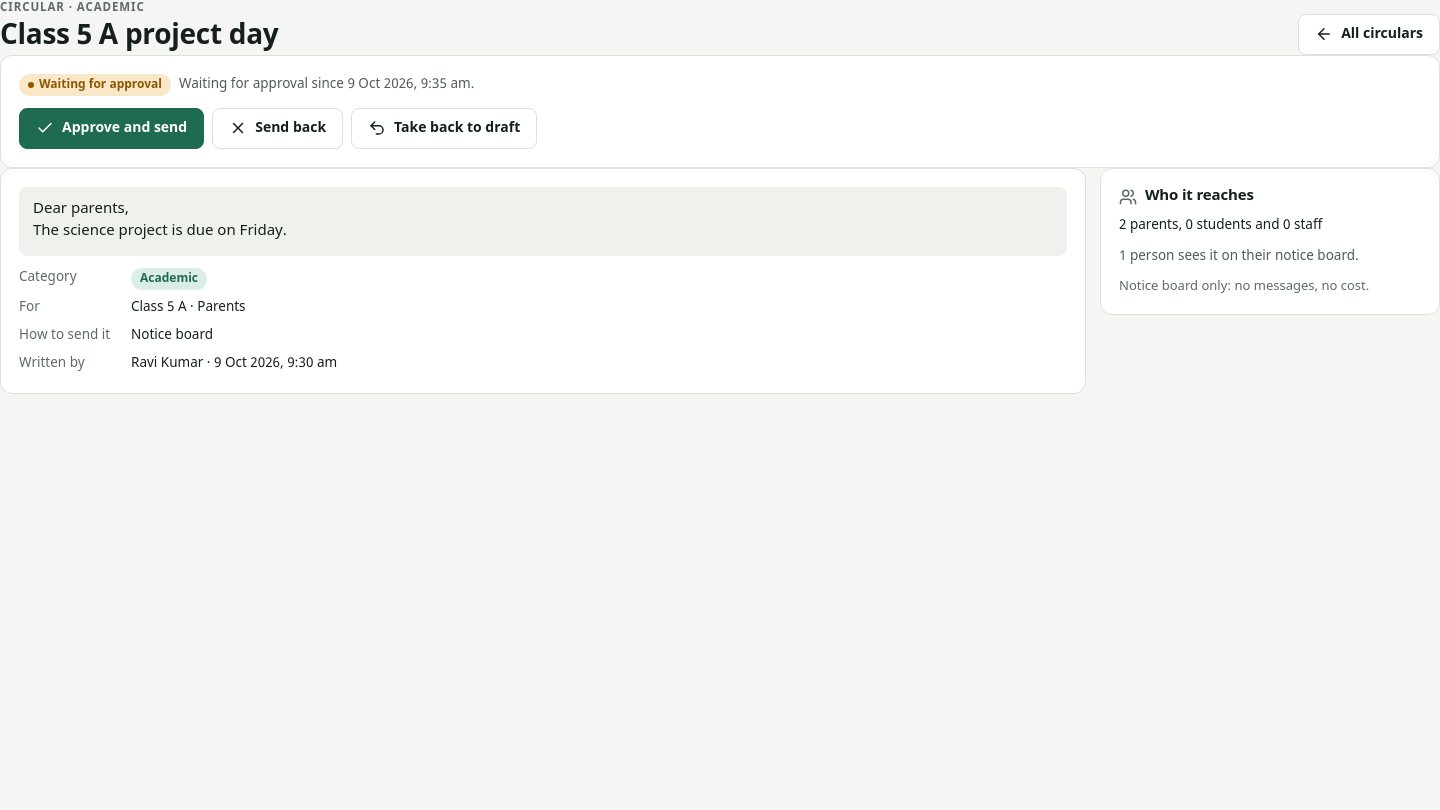
Test: NoticeDetailView › lets a principal approve a circular waiting for approval, which sends it
Expected: the element with test id "notice-status" shows "Waiting for approval", [39, 77, 162, 93]
Expected: the text with test id "notice-audience" reads "Class 5 A · Parents", [131, 299, 246, 317]
Click the button "Approve and send".
click(112, 128)  # box [19, 108, 204, 149]
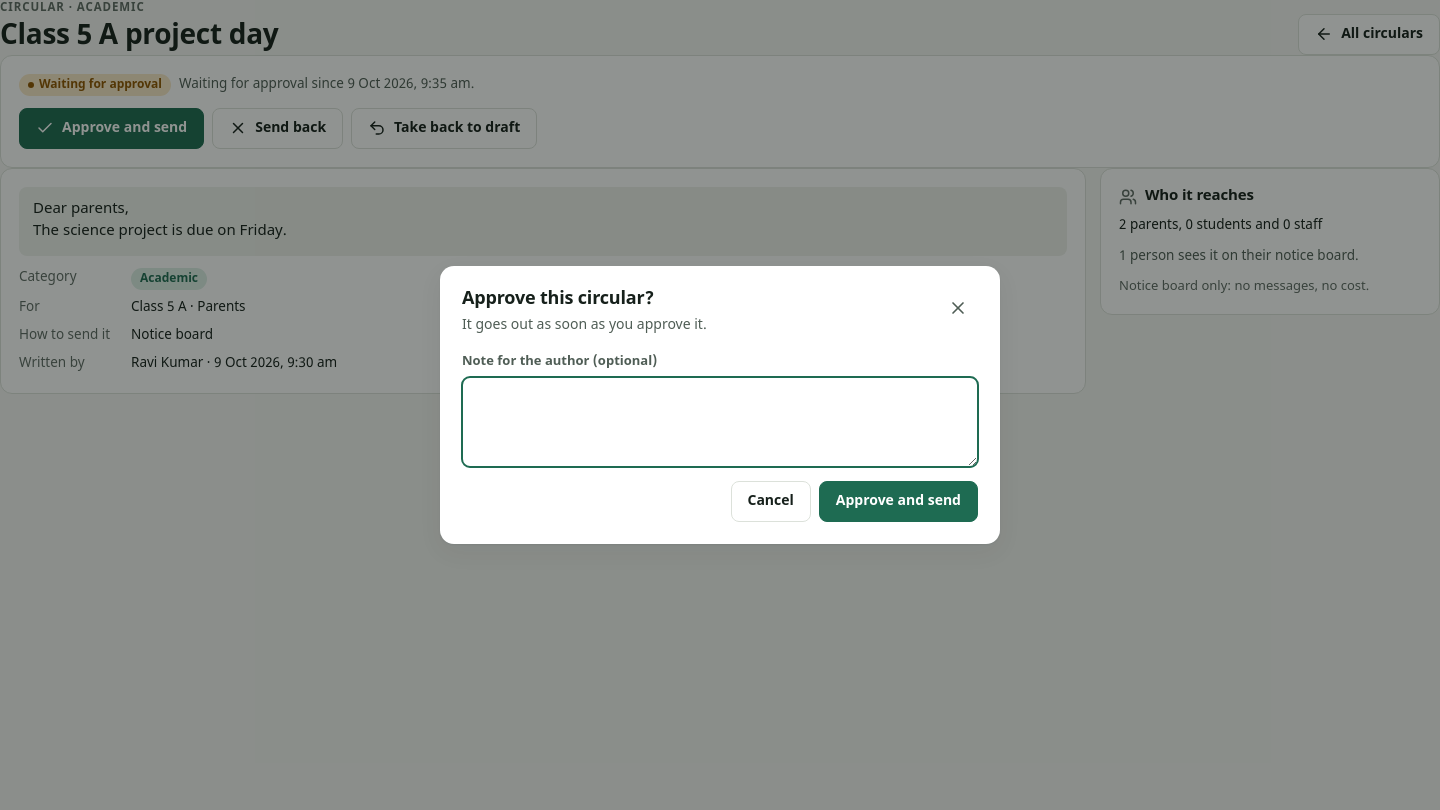
Click the button "Approve and send".
click(898, 501)  # box [819, 481, 978, 522]
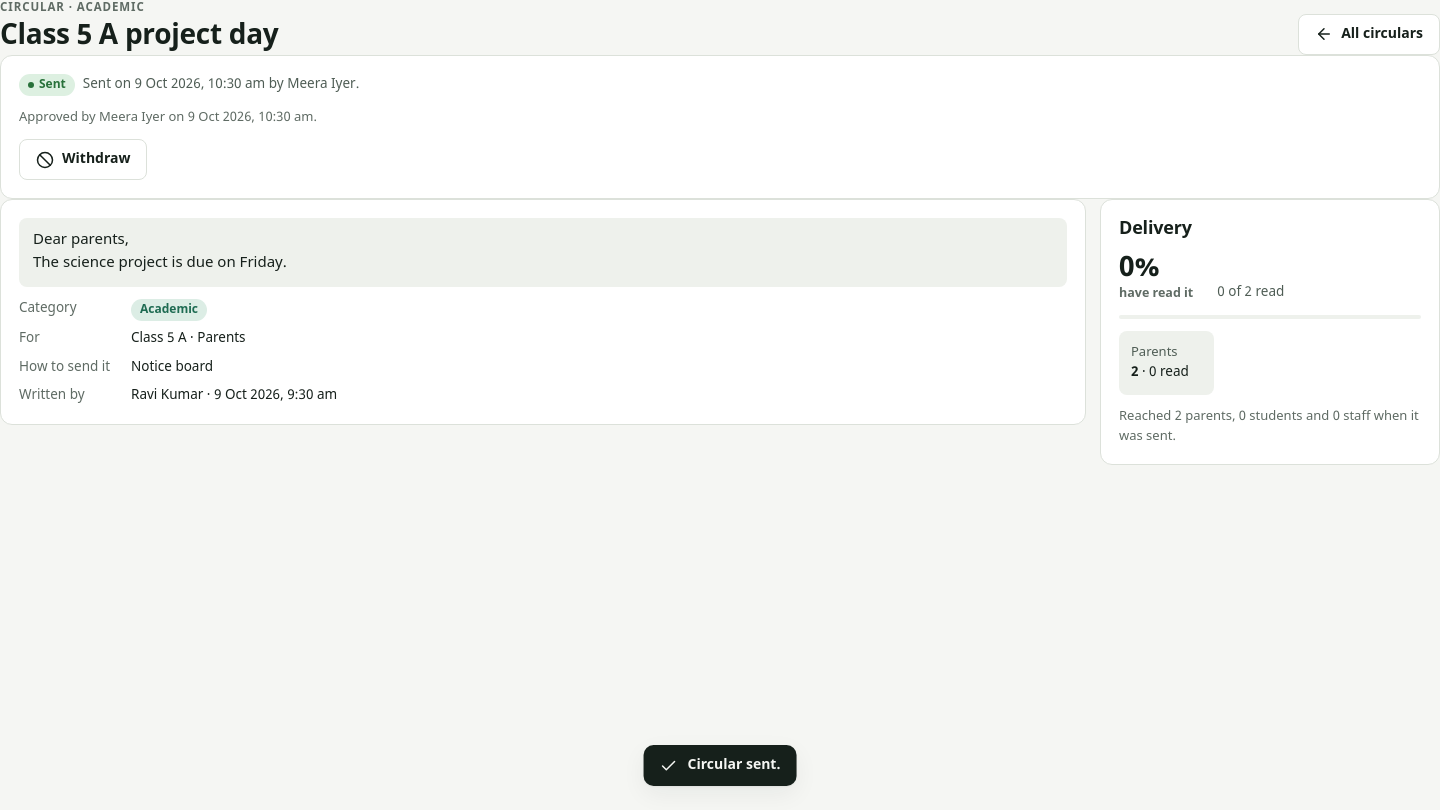
Now the text "Circular sent." is shown, box [644, 745, 796, 786]
Now the element with test id "notice-status" shows "Sent on", box [83, 76, 359, 94]
Now the text with test id "delivery-read" reads "0 of 2 read", box [1217, 284, 1284, 302]
